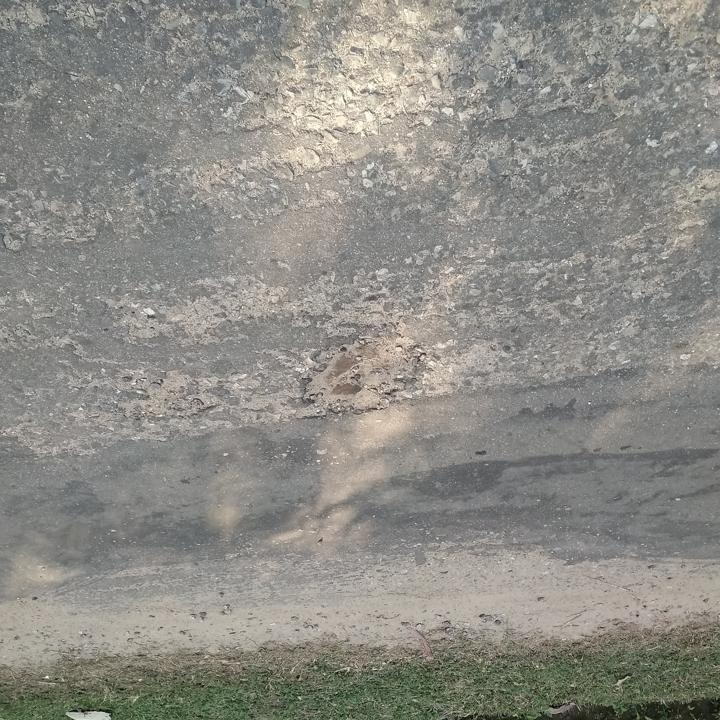pothole: (295, 332, 424, 423)
